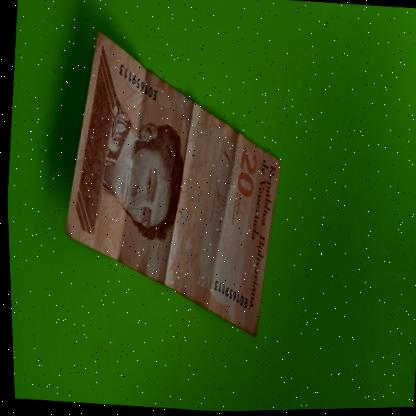twenty-front-vef: (49, 25, 295, 344)
